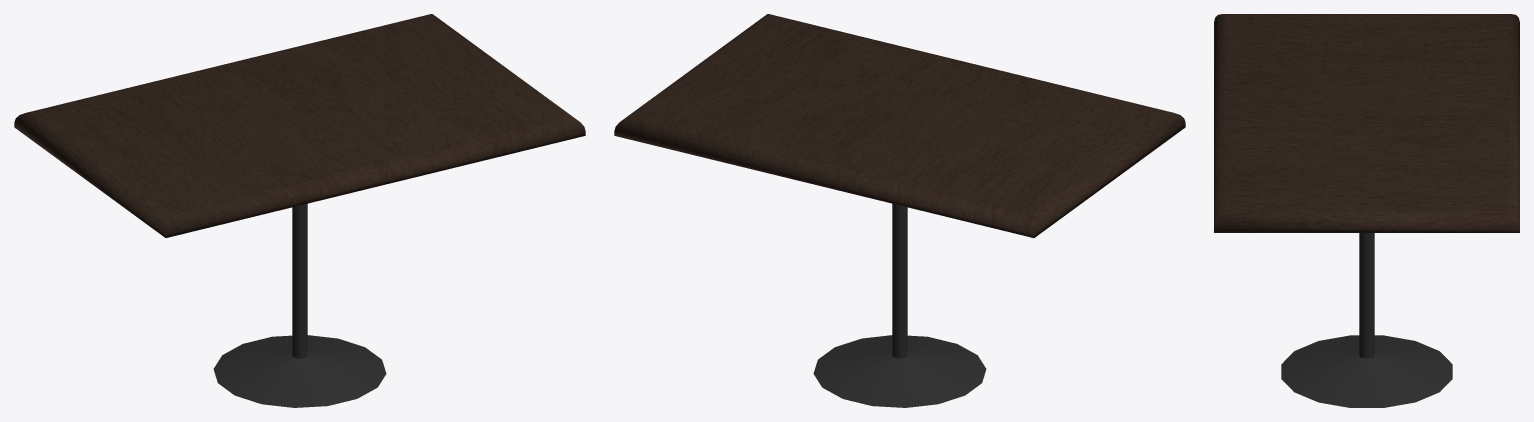
The model's file is Tables_Restaurant_Tables_1.fbx.
The picture shows the model from 3 angles, left to right: view 1: azimuth 30°, elevation 25°; view 2: azimuth 150°, elevation 25°; view 3: azimuth 270°, elevation 25°; orthographic projection.
Visible parts, largest first — view 1: Cube.015; view 2: Cube.015; view 3: Cube.015.
Part boxes in pixels (x1=…): Cube.015: x1=14, y1=14, x2=585, y2=407; Cube.015: x1=614, y1=14, x2=1185, y2=407; Cube.015: x1=1214, y1=14, x2=1519, y2=407.
Bounding box in the file's own units: 160 × 93.41 × 100.
